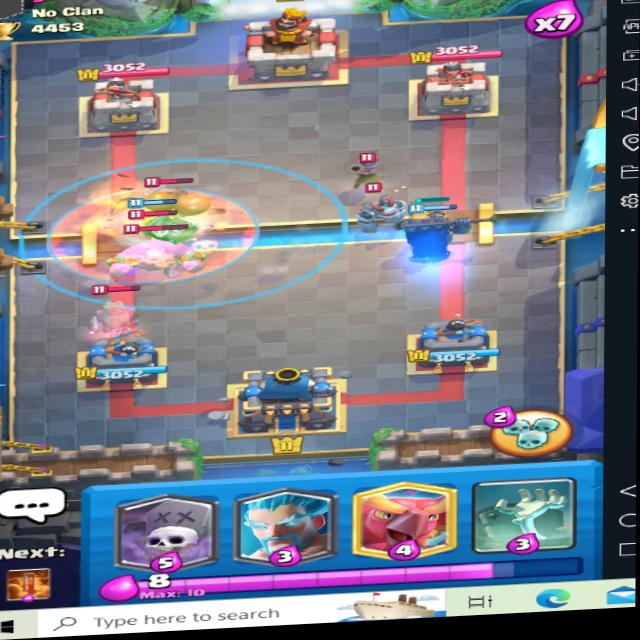electro-golem: (115, 234, 209, 286)
mega-minion: (347, 181, 421, 230)
musketeer: (343, 151, 405, 193)
royal-ghost: (86, 282, 145, 341)
skeleton-barrel: (131, 169, 216, 242)
